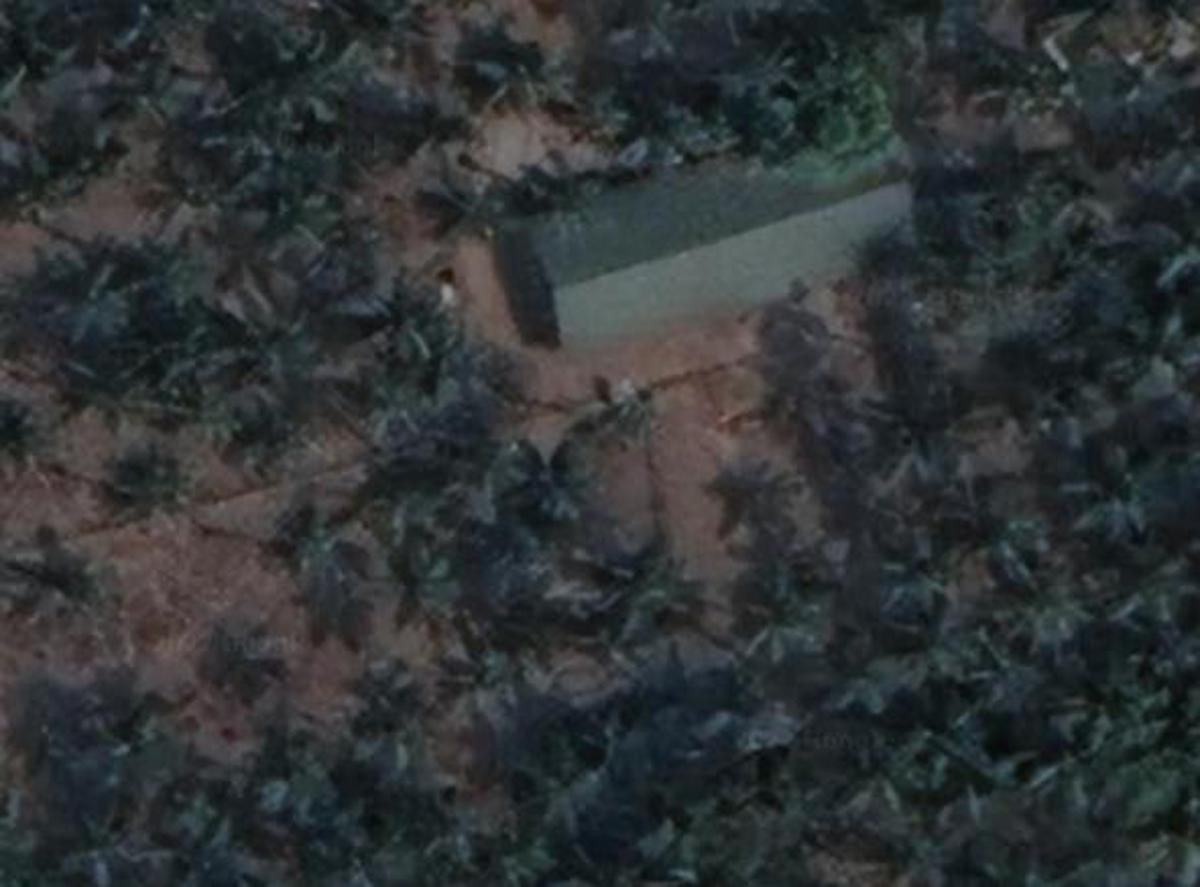coconut: (992, 327, 1106, 449), (248, 710, 364, 823), (823, 720, 935, 830), (1012, 699, 1124, 805), (16, 545, 130, 644), (268, 183, 372, 290), (213, 297, 323, 398), (97, 437, 203, 541), (842, 398, 955, 494), (711, 445, 813, 551), (412, 146, 514, 250), (512, 734, 616, 836), (54, 789, 162, 887), (465, 28, 577, 122), (732, 567, 831, 671), (65, 339, 170, 437), (1102, 299, 1200, 402), (408, 773, 512, 868), (711, 24, 811, 122), (905, 598, 1002, 699), (201, 614, 303, 710), (349, 669, 443, 771), (431, 608, 524, 710), (40, 254, 146, 343), (597, 541, 685, 648), (640, 779, 744, 868), (219, 120, 321, 209), (248, 30, 343, 124), (896, 685, 992, 777), (87, 699, 185, 789), (1023, 152, 1118, 244), (1108, 535, 1200, 630), (353, 276, 445, 370), (874, 526, 966, 620), (988, 567, 1088, 651), (1063, 451, 1155, 541), (272, 498, 362, 589), (162, 142, 250, 235), (974, 632, 1069, 718), (960, 498, 1053, 585), (884, 803, 980, 887), (502, 431, 585, 528), (124, 233, 215, 317), (353, 360, 439, 447), (382, 463, 465, 553), (329, 0, 435, 67), (142, 307, 229, 388), (764, 351, 850, 431), (518, 154, 597, 240), (583, 362, 669, 441), (571, 73, 654, 154), (549, 535, 628, 618), (386, 543, 463, 626), (67, 103, 138, 181), (6, 138, 71, 217), (166, 384, 248, 445)
